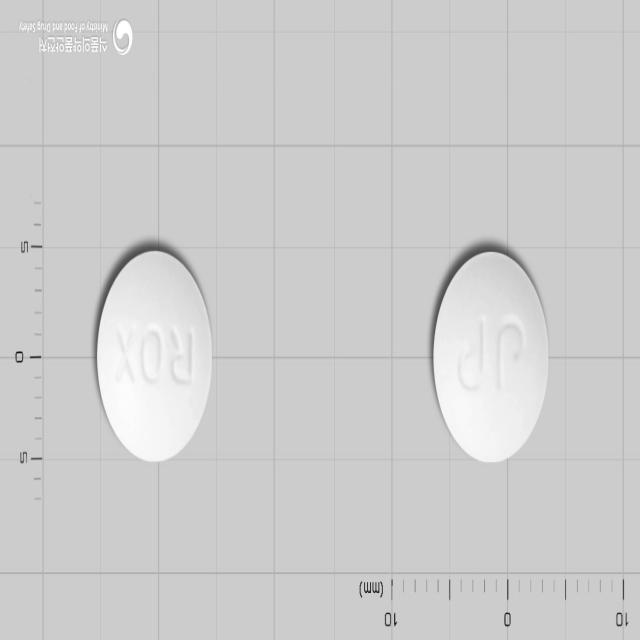Clarid - 500mg: (94, 248, 211, 467), (431, 251, 550, 464)
